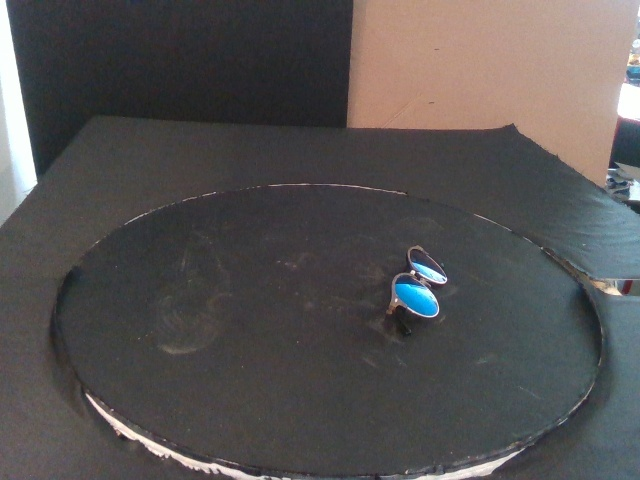glasses: (384, 244, 448, 336)
